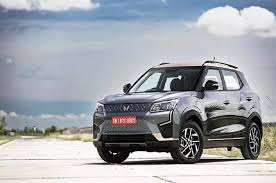XUV 400: (91, 54, 262, 166)
